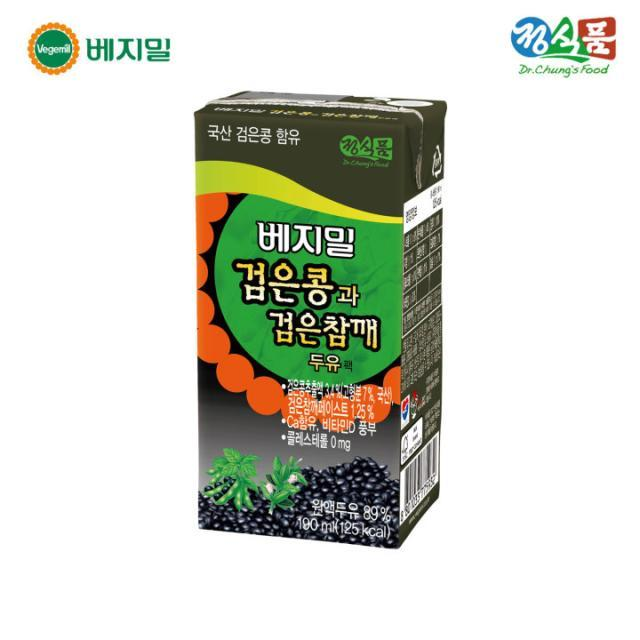Tetra: (181, 72, 456, 556)
